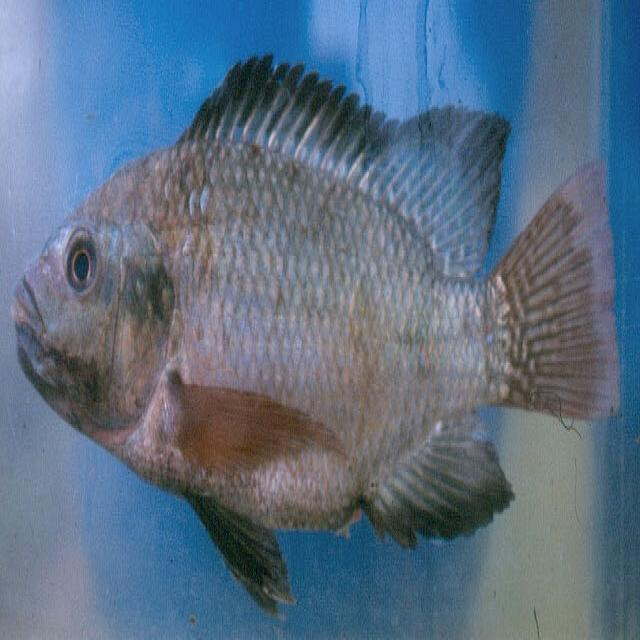ikan: (10, 50, 620, 615)
